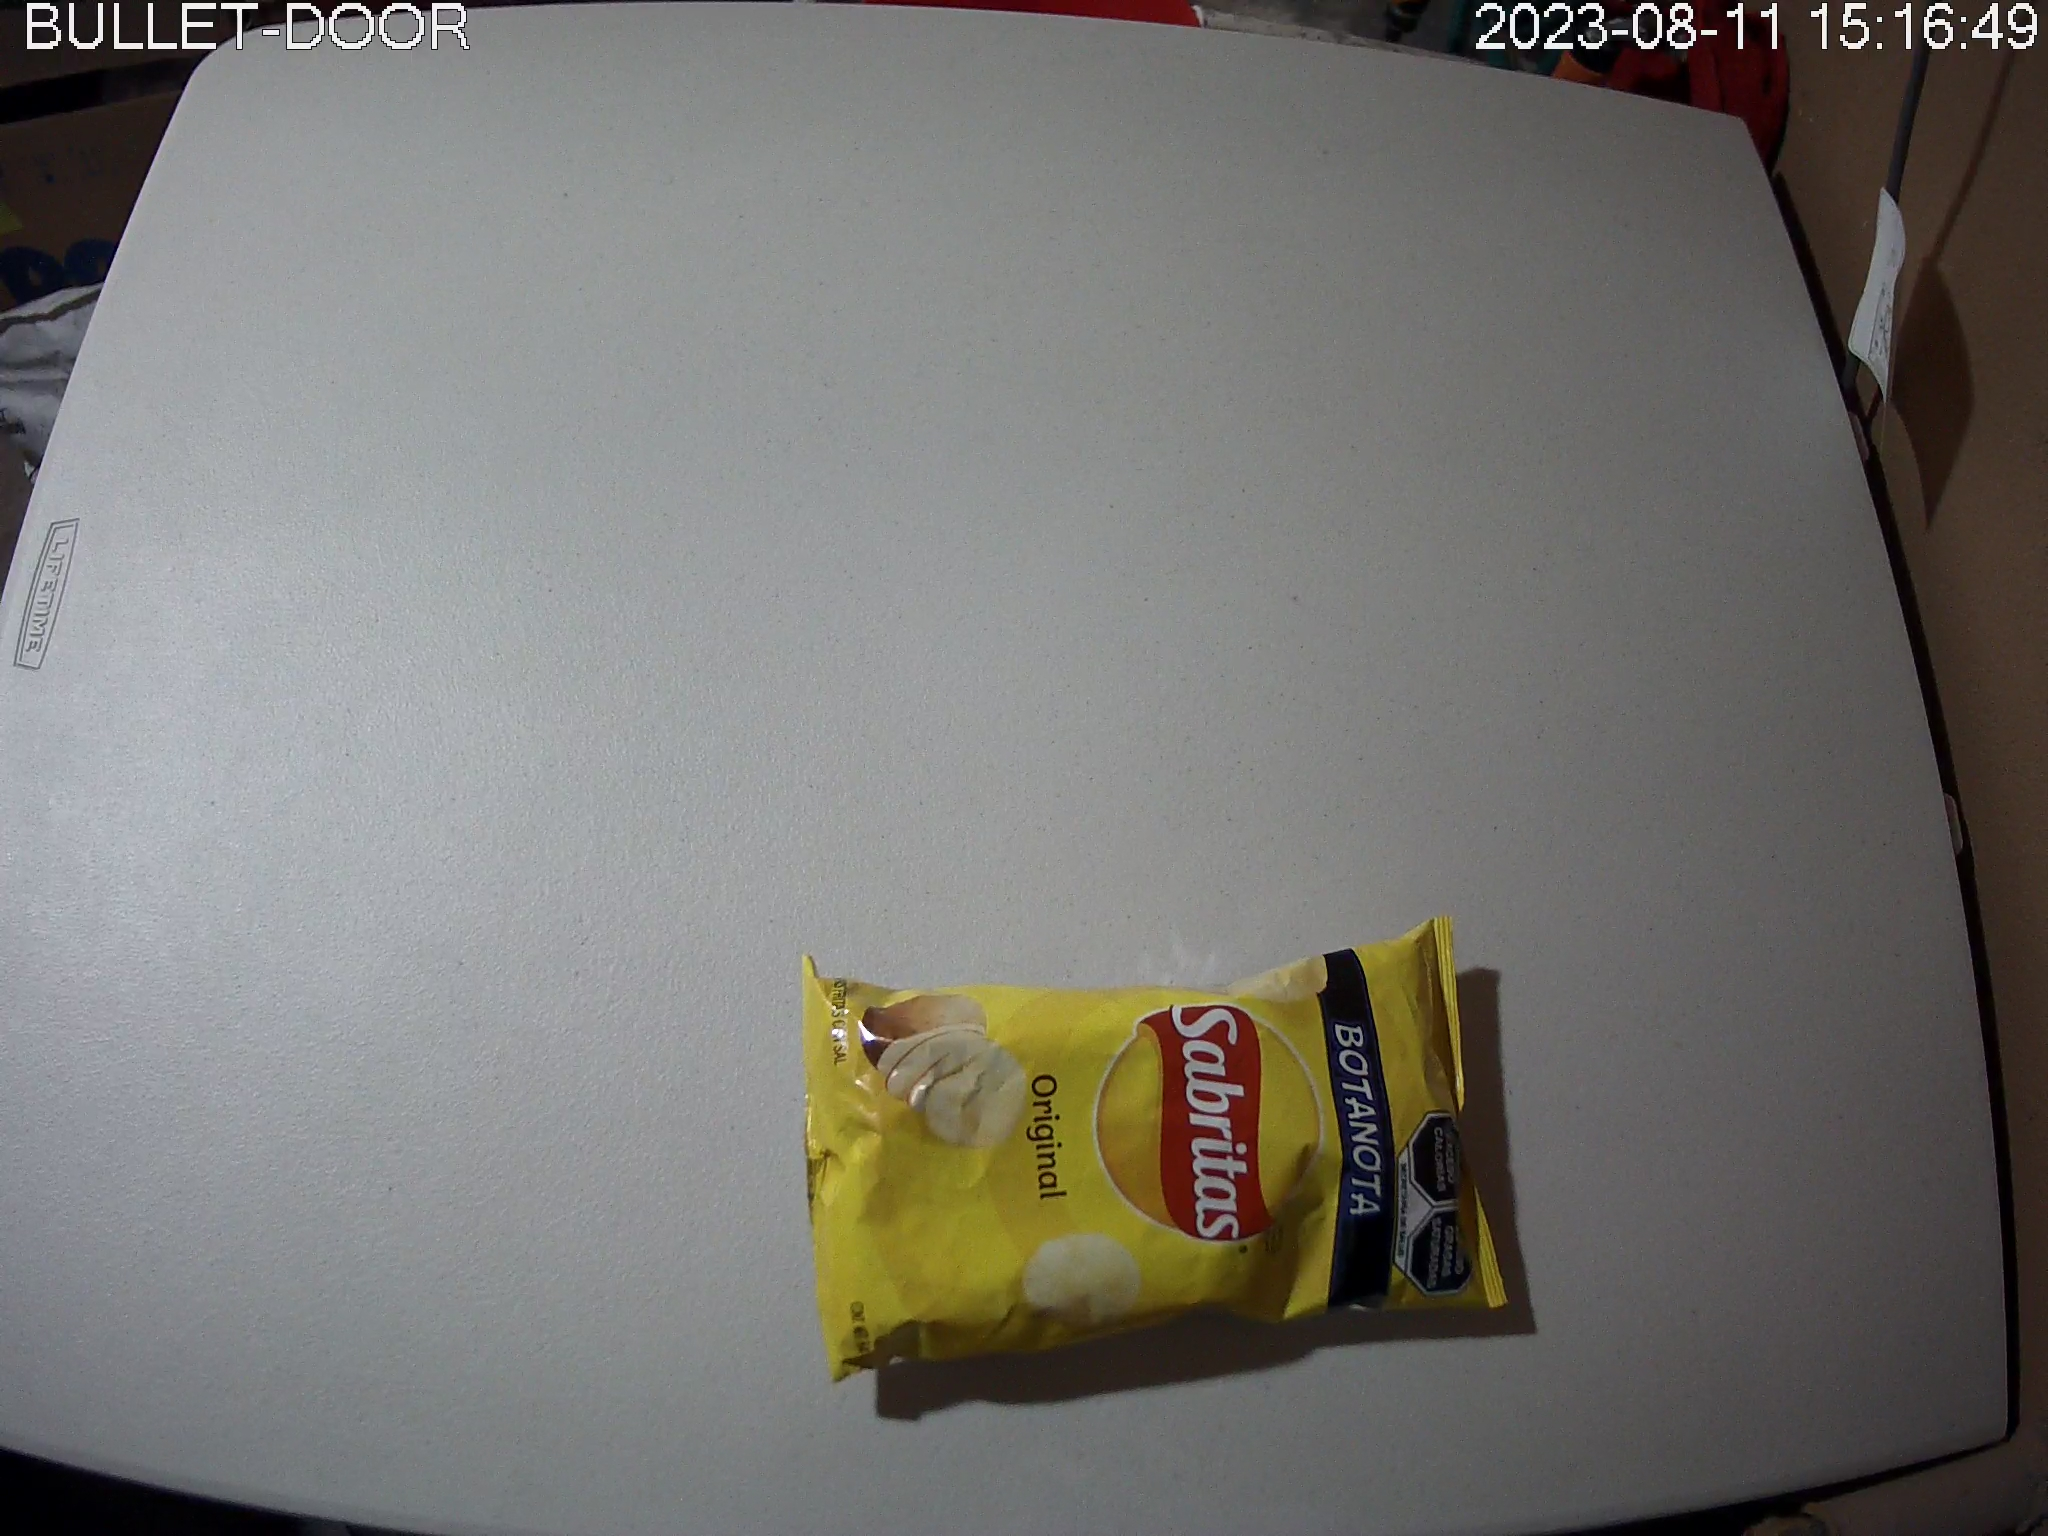Sabritas_64_F: (800, 912, 1521, 1384)
